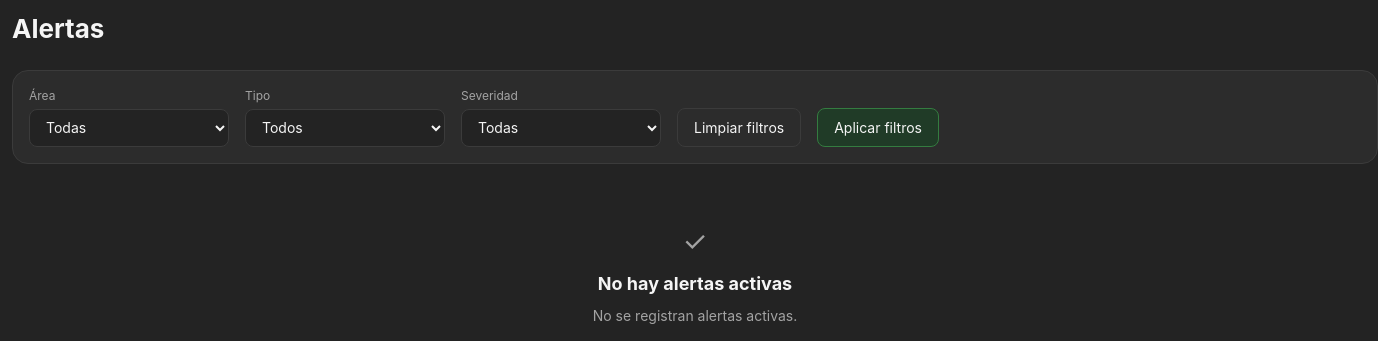
Test case: AlertasPage › editar un filtro no hace pedidos hasta aplicar y conserva el filtro al reintentar
Expected: the heading "No hay alertas activas" is shown, [598,270,792,297]
Select "Agronómica" in the dropdown labelled "Tipo" at (345, 128), box [245,109,445,147]
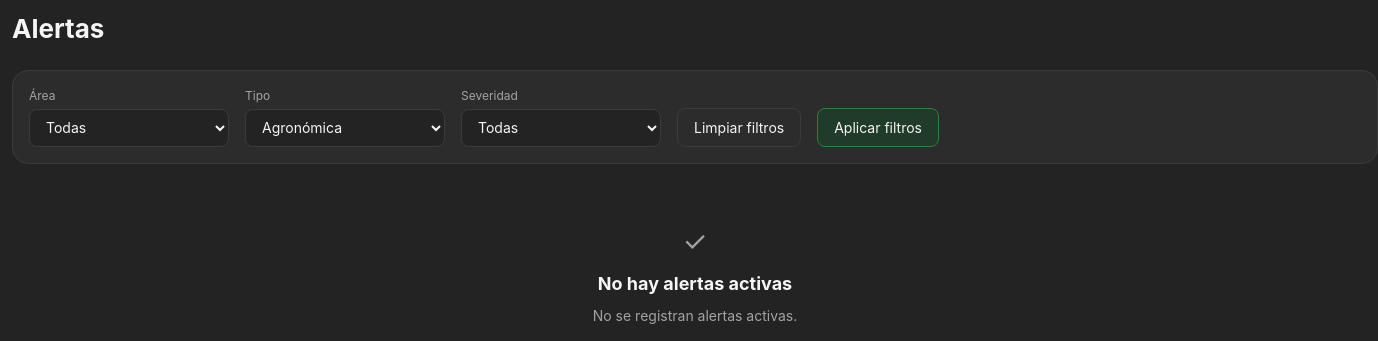
Expected: the heading "No hay alertas activas" is shown, [598,270,792,297]
Click the button "Aplicar filtros" at (878, 127), box [817,108,939,147]
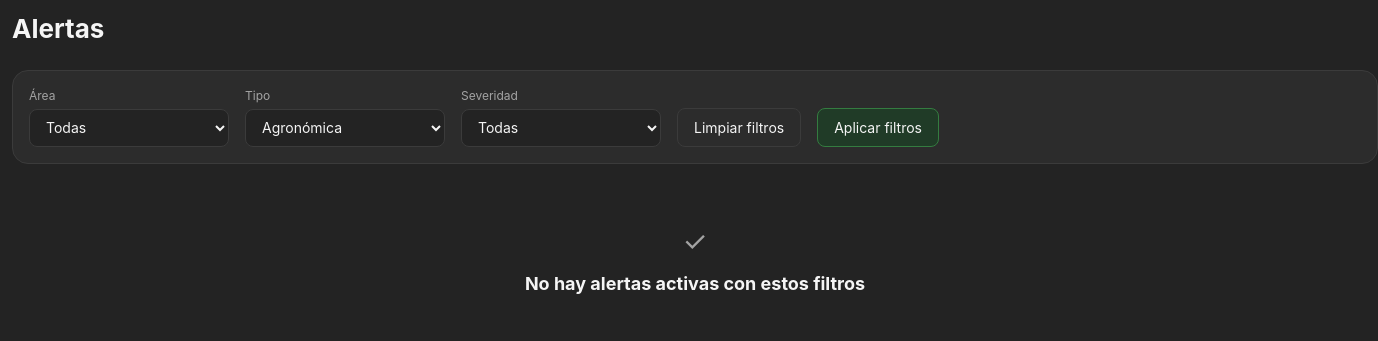
Expected: the heading "No hay alertas activas con estos filtros" is shown, [525,270,865,297]
